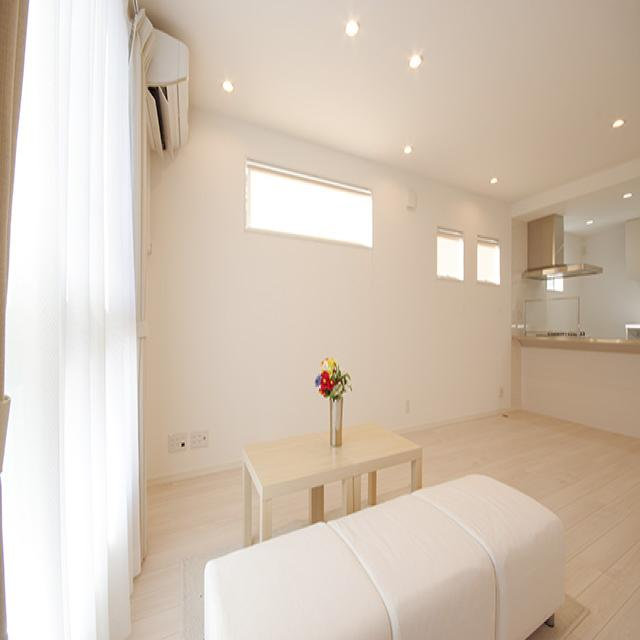white desk: (239, 427, 419, 492)
white sofa: (182, 477, 580, 640)
